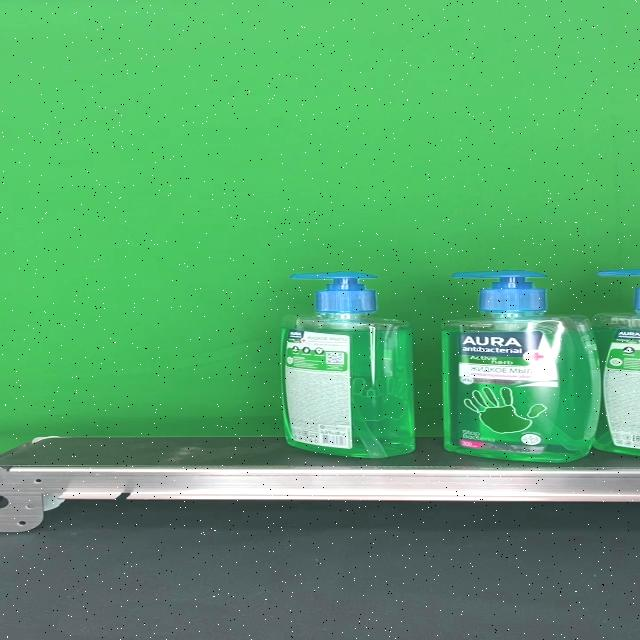Bottle: (443, 271, 601, 462), (278, 271, 415, 458)
Cap: (450, 270, 548, 312), (290, 271, 379, 313)
